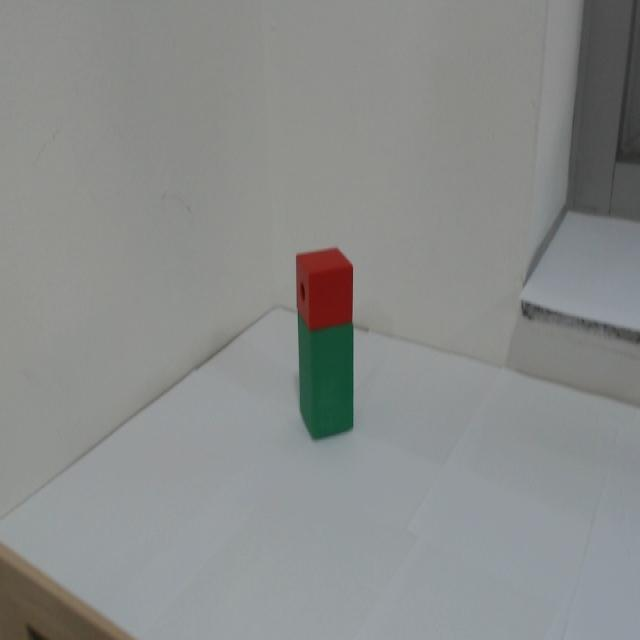cube: (279, 232, 372, 331)
